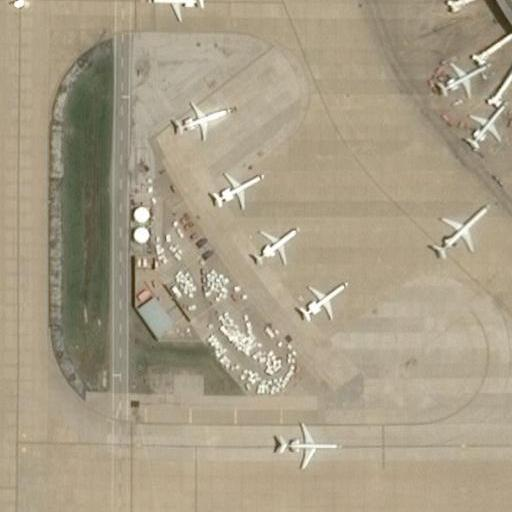Aircraft: (425, 193, 494, 259), (262, 411, 338, 469), (425, 47, 492, 101), (456, 93, 512, 153), (163, 93, 227, 141), (286, 276, 349, 324), (205, 162, 264, 212), (250, 224, 301, 263), (146, 0, 212, 24), (1, 0, 39, 12)
